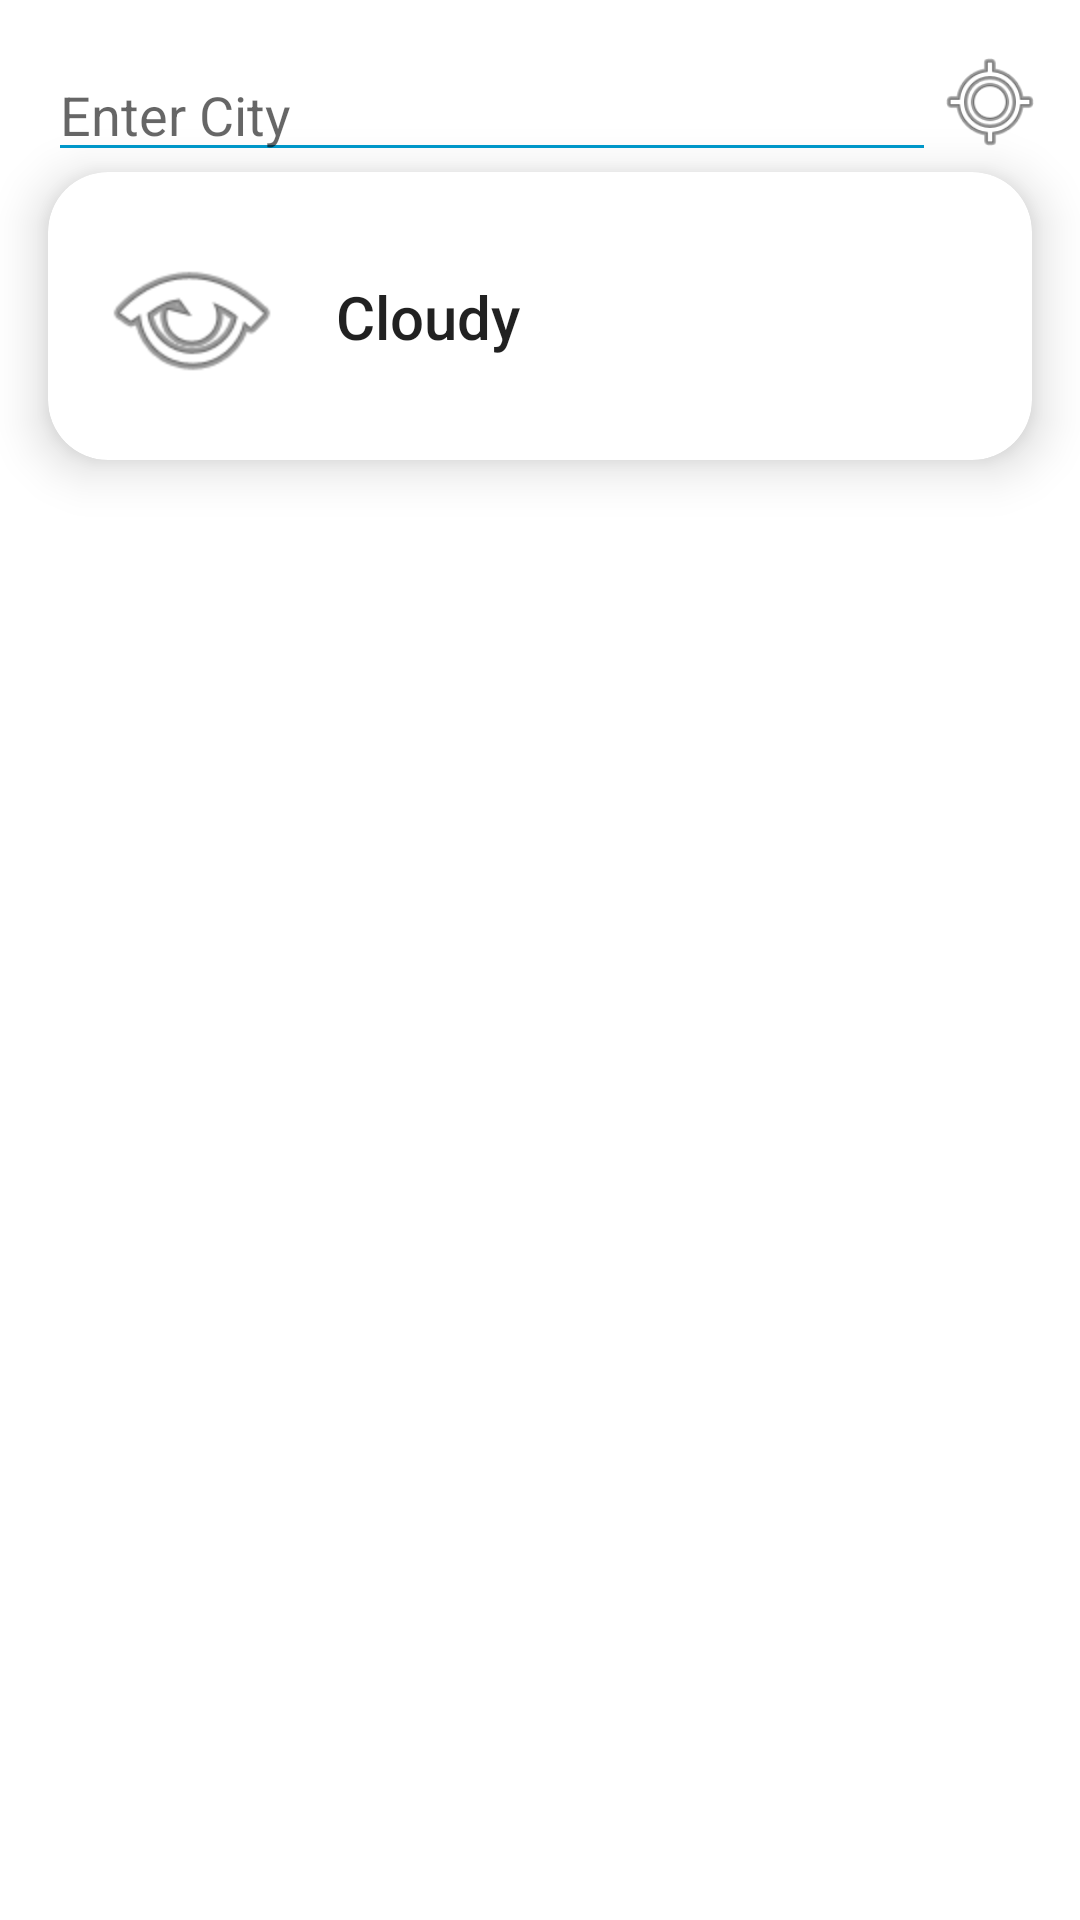

Icons on this 1080×1920 Android screen, each with the point to tap as point (x, y):
Current location icon: point (990, 102)
